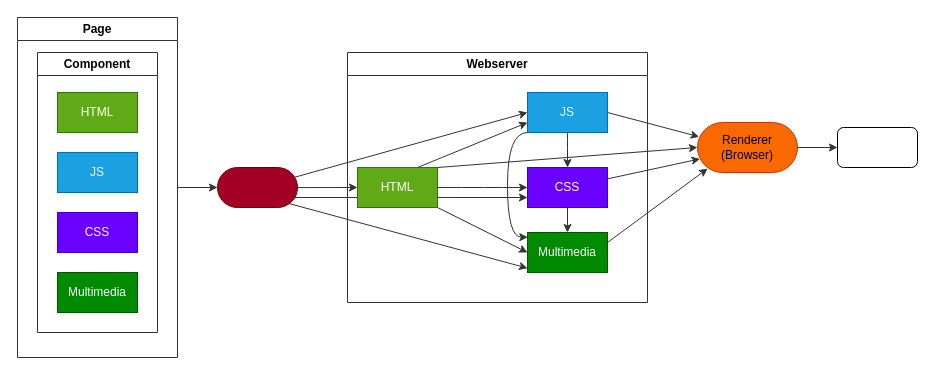
Image size: 935x375. Some labels were removed from this diagram. Each missing label, with the centre of its shape:
Display: (877,147)
Framework: (257,187)
